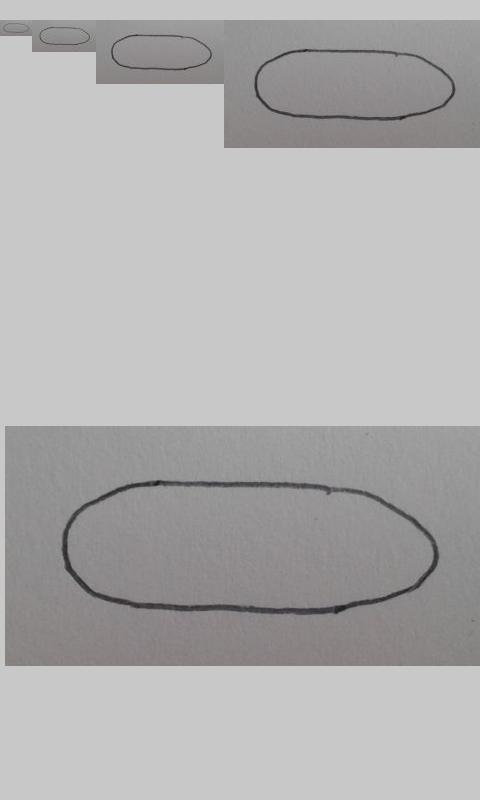chip: (61, 480, 443, 618), (252, 47, 457, 122), (110, 34, 212, 71), (39, 26, 91, 46), (3, 23, 30, 34)
